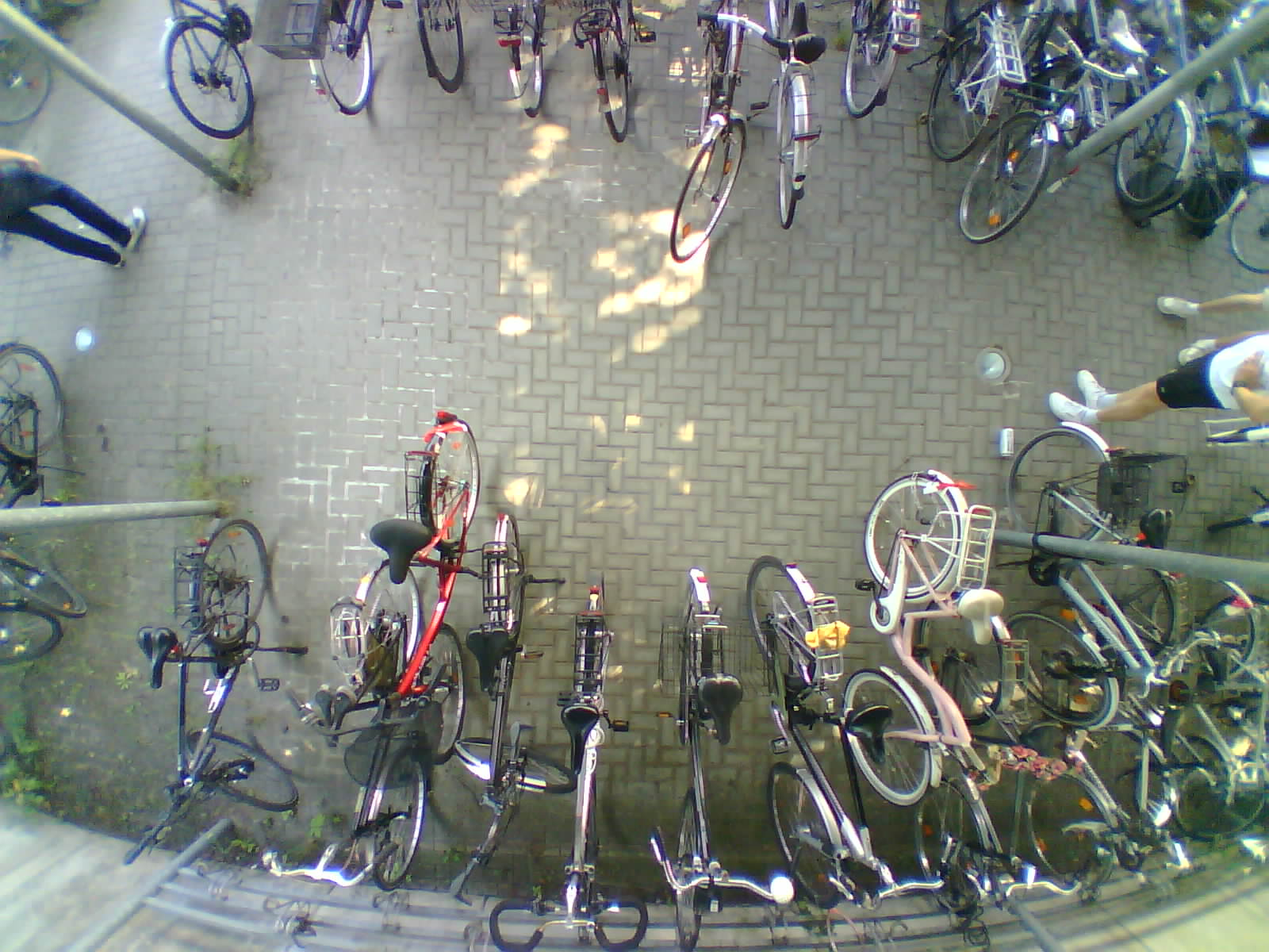bicylce: (999, 409, 1158, 724), (1083, 547, 1256, 832), (846, 462, 970, 798), (315, 555, 436, 884), (375, 417, 490, 758), (755, 550, 868, 896), (1033, 588, 1152, 908), (151, 517, 275, 822), (658, 571, 749, 952), (929, 587, 1015, 914), (470, 513, 543, 886), (555, 572, 622, 947), (977, 0, 1072, 250)
saddle: (371, 515, 433, 582), (698, 670, 746, 748), (307, 683, 357, 752), (466, 630, 512, 693), (847, 704, 894, 764), (136, 623, 177, 691), (960, 589, 1008, 646), (560, 704, 598, 772), (1106, 11, 1150, 61), (1140, 501, 1179, 556), (1153, 697, 1184, 760), (1204, 638, 1228, 685), (1246, 79, 1269, 119)
